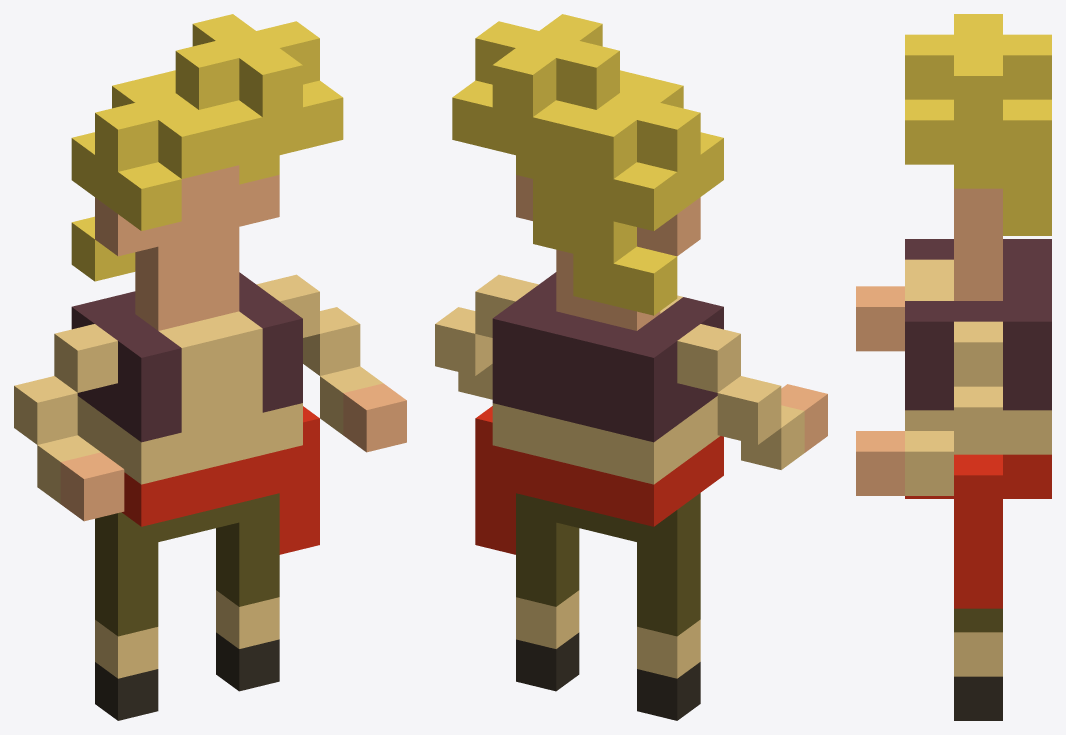
Rendered from guybrushIdleStill.obj.
3 views of the same model, side by side, from view 1: azimuth 30°, elevation 25°; view 2: azimuth 150°, elevation 25°; view 3: azimuth 270°, elevation 25° (orthographic). The views are drawn at different scales.
Bounding box in the file's own units: 8 × 15 × 4.
1 material, 1 textured.
